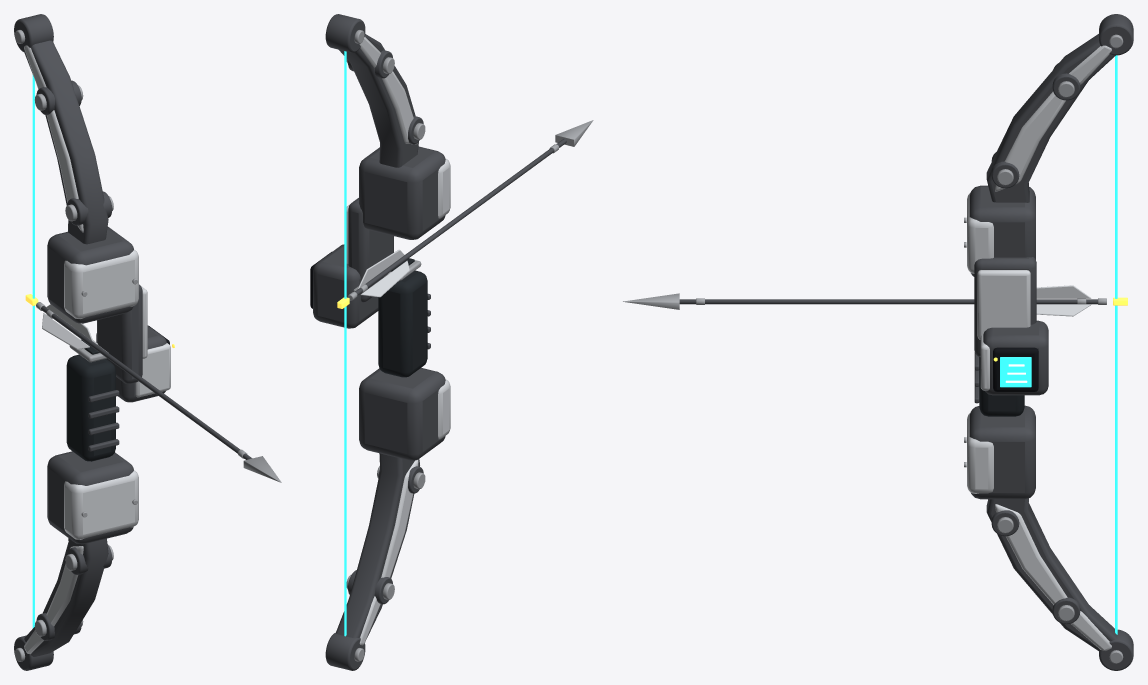
Rendered from CubeEscape_Bow_Standard.glb.
3 renders of one model, left to right at view 1: azimuth 30°, elevation 25°; view 2: azimuth 150°, elevation 25°; view 3: azimuth 270°, elevation 25°, orthographic.
Visible parts, largest first — view 1: SM_BW_UpperLimbSpine, SM_BW_Grip, SM_BW_RiserArmor1, SM_BW_RiserArmor-1, SM_BW_RiserCollar-1, SM_BW_RiserCollar1, SM_BW_LowerLimbSpine, SM_BW_RiserWindowSide, SM_BW_Arrow_Shaft, SM_BW_ControlShell, SM_BW_UpperLimbArmor, SM_BW_UpperTipCam (+11 smaller); view 2: SM_BW_RiserCollar-1, SM_BW_RiserCollar1, SM_BW_LowerLimbSpine, SM_BW_Grip, SM_BW_UpperLimbSpine, SM_BW_ControlModule, SM_BW_RiserWindowSide, SM_BW_Arrow_Shaft, SM_BW_LowerLimbArmor, SM_BW_UpperTipCam, SM_BW_LowerTipCam, SM_BW_LowerBowstring (+7 smaller); view 3: SM_BW_RiserCollar-1, SM_BW_UpperLimbSpine, SM_BW_LowerLimbSpine, SM_BW_RiserCollar1, SM_BW_RiserWindowArmor, SM_BW_ControlModule, SM_BW_Arrow_Shaft, SM_BW_LowerLimbArmor, SM_BW_UpperLimbArmor, SM_BW_RiserWindowSide, SM_BW_RiserArmor-1, SM_BW_RiserArmor1 (+6 smaller).
Boxes of the visible parts, box(x1,y1,x2,y2) form: SM_BW_UpperLimbSpine: box(24, 40, 108, 244); SM_BW_Grip: box(66, 354, 115, 461); SM_BW_RiserArmor1: box(64, 249, 138, 318); SM_BW_RiserArmor-1: box(64, 470, 138, 539); SM_BW_RiserCollar-1: box(47, 451, 133, 544); SM_BW_RiserCollar1: box(47, 226, 133, 323); SM_BW_LowerLimbSpine: box(24, 538, 108, 656); SM_BW_RiserWindowSide: box(97, 284, 142, 383); SM_BW_Arrow_Shaft: box(41, 306, 252, 459); SM_BW_ControlShell: box(135, 343, 170, 397); SM_BW_UpperLimbArmor: box(46, 110, 83, 232); SM_BW_UpperTipCam: box(14, 14, 53, 52); SM_BW_RiserCollar-1: box(359, 368, 445, 460); SM_BW_RiserCollar1: box(359, 146, 445, 239); SM_BW_LowerLimbSpine: box(336, 453, 419, 637); SM_BW_Grip: box(378, 270, 427, 377); SM_BW_UpperLimbSpine: box(339, 34, 418, 167); SM_BW_ControlModule: box(313, 244, 378, 328); SM_BW_RiserWindowSide: box(348, 198, 393, 302); SM_BW_Arrow_Shaft: box(355, 138, 566, 295); SM_BW_LowerLimbArmor: box(381, 460, 418, 577); SM_BW_UpperTipCam: box(325, 14, 365, 52); SM_BW_LowerTipCam: box(325, 633, 365, 670); SM_BW_LowerBowstring: box(344, 306, 346, 636); SM_BW_RiserCollar-1: box(969, 405, 1035, 499); SM_BW_UpperLimbSpine: box(986, 34, 1115, 202); SM_BW_LowerLimbSpine: box(986, 498, 1117, 651); SM_BW_RiserCollar1: box(969, 185, 1035, 276); SM_BW_RiserWindowArmor: box(977, 270, 1030, 339); SM_BW_ControlModule: box(983, 320, 1048, 395); SM_BW_Arrow_Shaft: box(679, 299, 1097, 304); SM_BW_LowerLimbArmor: box(995, 504, 1067, 604); SM_BW_UpperLimbArmor: box(995, 91, 1065, 191); SM_BW_RiserWindowSide: box(974, 257, 1036, 356); SM_BW_RiserArmor-1: box(967, 413, 993, 493); SM_BW_RiserArmor1: box(967, 193, 993, 273).
Bounding box in the file's own units: 0.187 × 1.03 × 0.7378.
